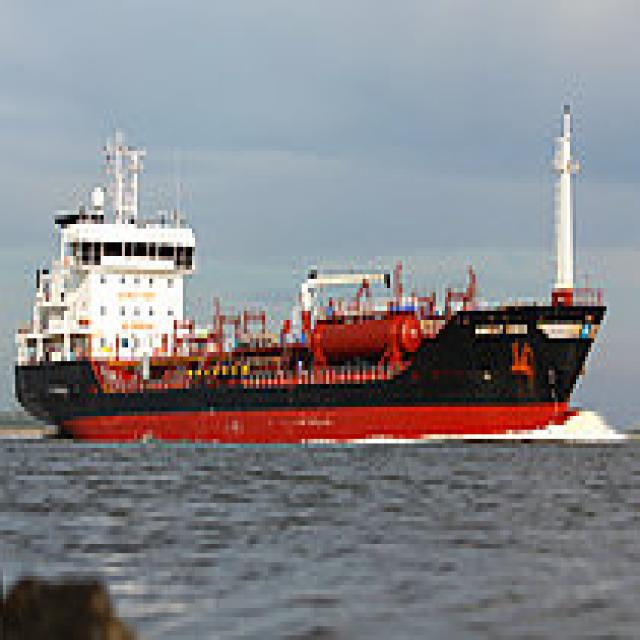Tanker: (9, 119, 613, 434)
